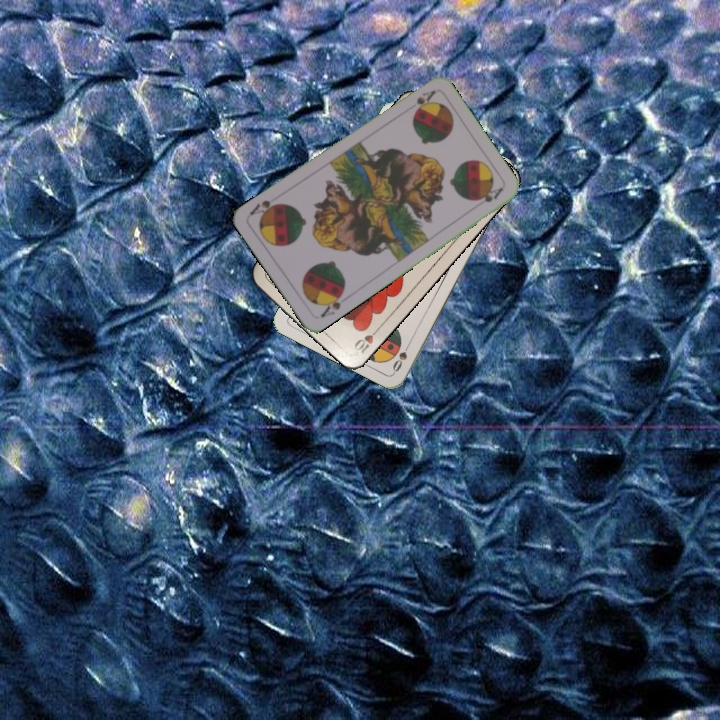H10: (350, 322, 383, 357)
SA: (317, 287, 346, 320), (410, 86, 438, 115)
SO: (389, 337, 414, 375)
